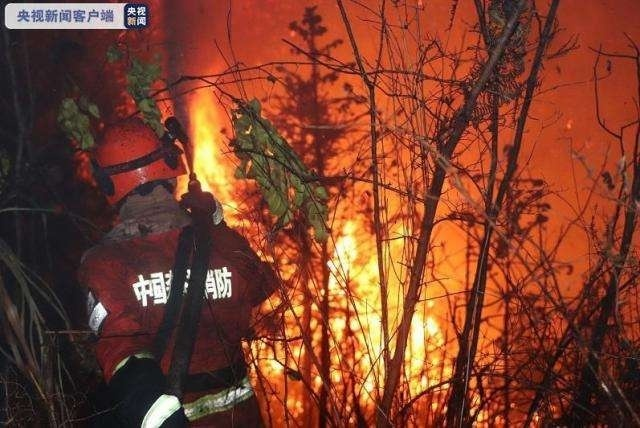fire: (260, 202, 463, 407), (182, 84, 234, 209)
